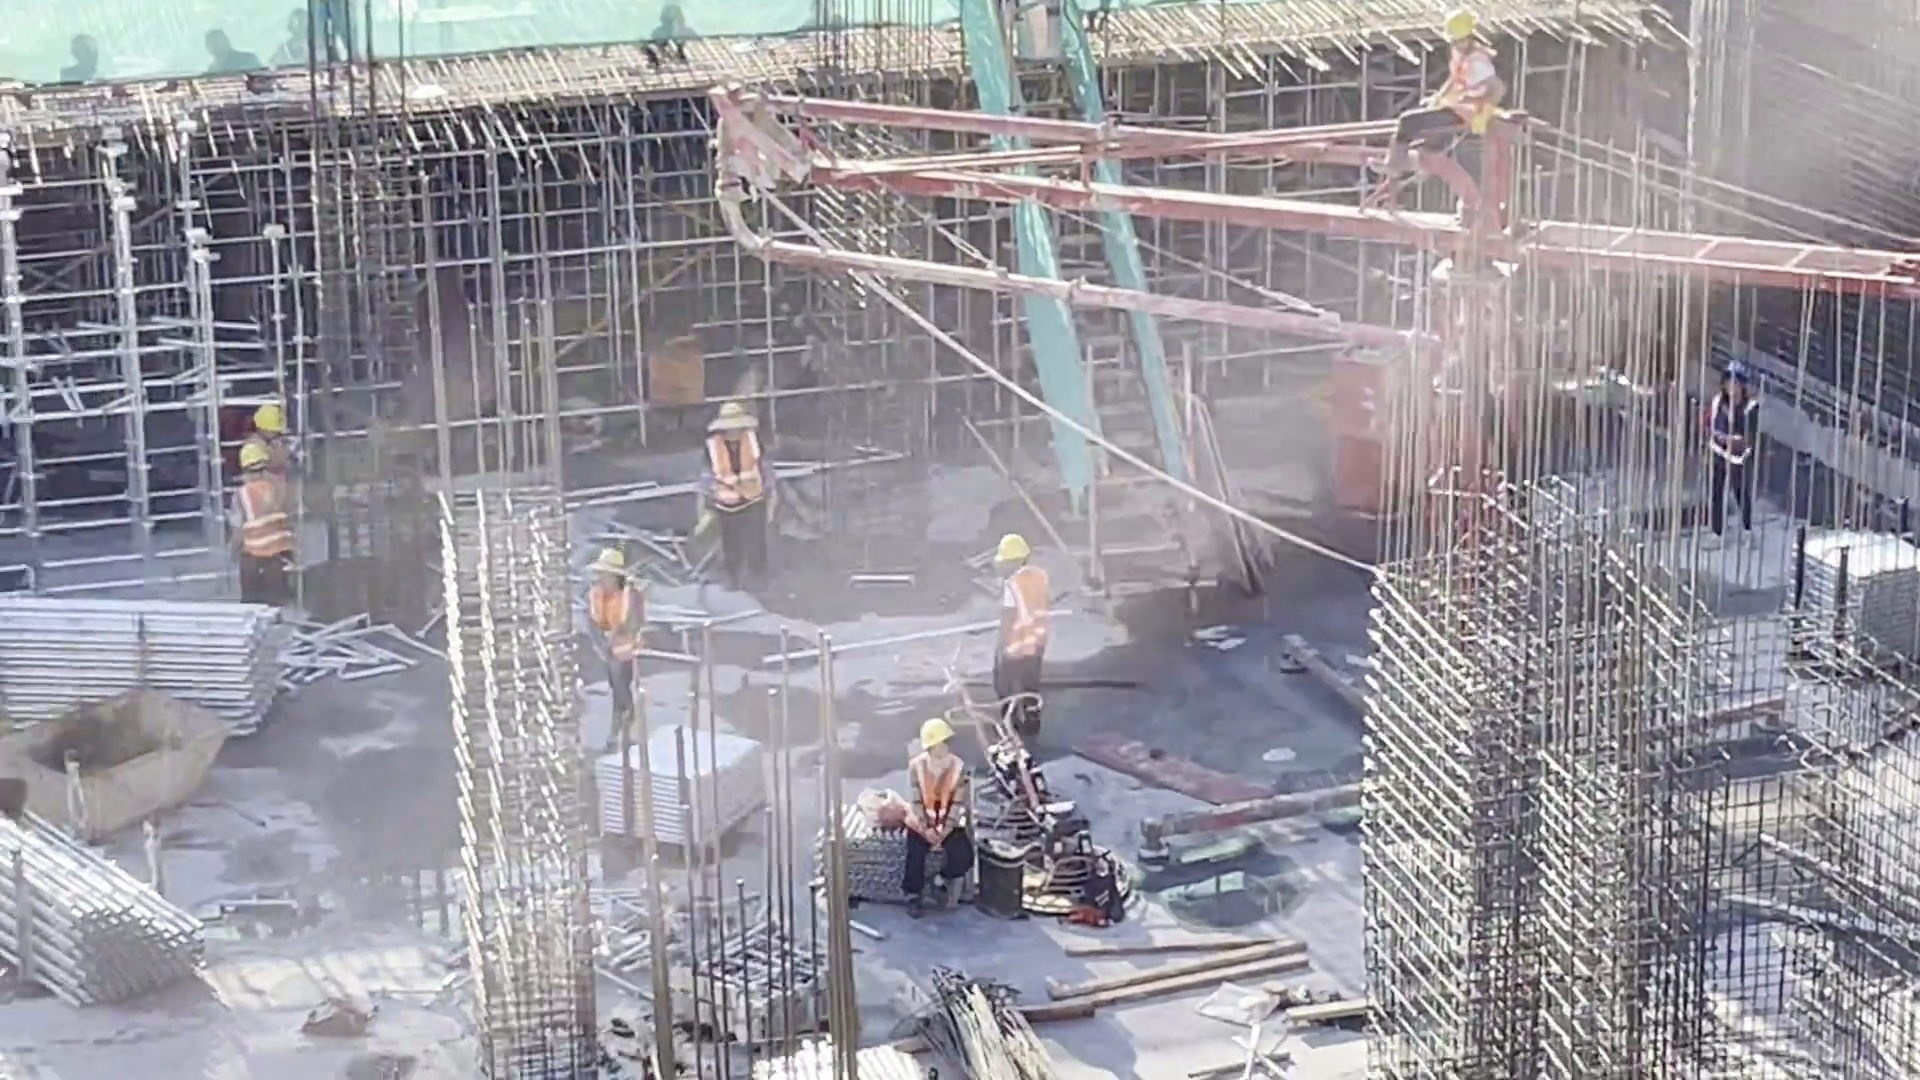helmet: (231, 438, 270, 471), (588, 542, 635, 569), (1444, 11, 1482, 42), (920, 723, 959, 749), (254, 406, 289, 435), (996, 531, 1031, 558), (717, 403, 751, 428), (1721, 360, 1747, 381)
hopper: (1, 694, 222, 828)
person: (1362, 5, 1507, 187), (892, 716, 988, 939), (695, 400, 779, 597), (1692, 352, 1767, 574), (577, 552, 655, 757), (218, 445, 306, 617), (995, 535, 1050, 746), (233, 404, 301, 535)
rebar: (920, 974, 1035, 1080)
scaffold: (1, 764, 207, 1004), (1, 590, 301, 716), (600, 736, 761, 849), (1808, 528, 1920, 673), (761, 1037, 910, 1080), (833, 828, 927, 893)
vest: (1438, 52, 1507, 114), (1009, 576, 1053, 658), (240, 485, 285, 557), (908, 765, 959, 825), (586, 591, 632, 656), (707, 438, 757, 495), (1713, 403, 1754, 465)
